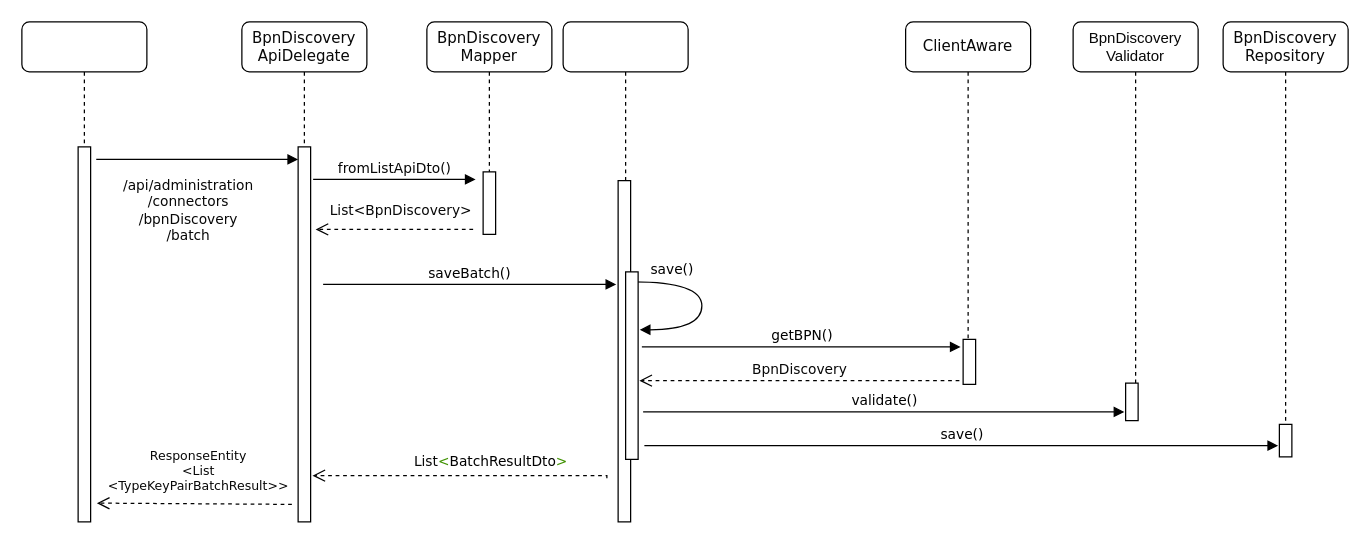
The diagram is 1370 pixels wide and 544 high, and some of its shapes have lost their labels. The box of each missing label's shape, as (x1, y1, x2, y2) in pixels:
BpnDiscovery Service: (562, 21, 688, 522)
Data Provider: (21, 21, 147, 522)
